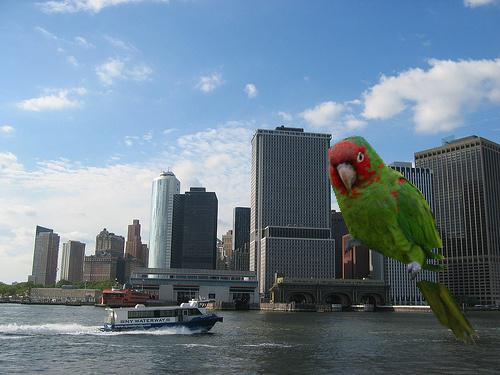tampered: (329, 136, 479, 349)
